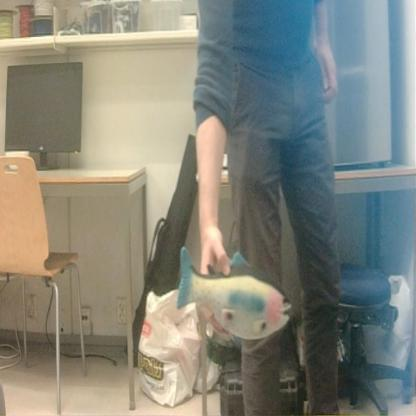rubberfish: (176, 243, 292, 346)
